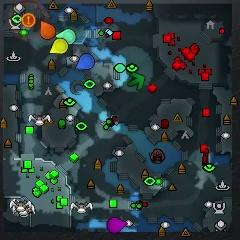p1: (76, 54, 95, 70)
p2: (56, 29, 76, 45)
p3: (108, 218, 126, 232)
p4: (49, 38, 68, 54)
p5: (41, 22, 56, 40)
x4: (128, 72, 145, 90)
